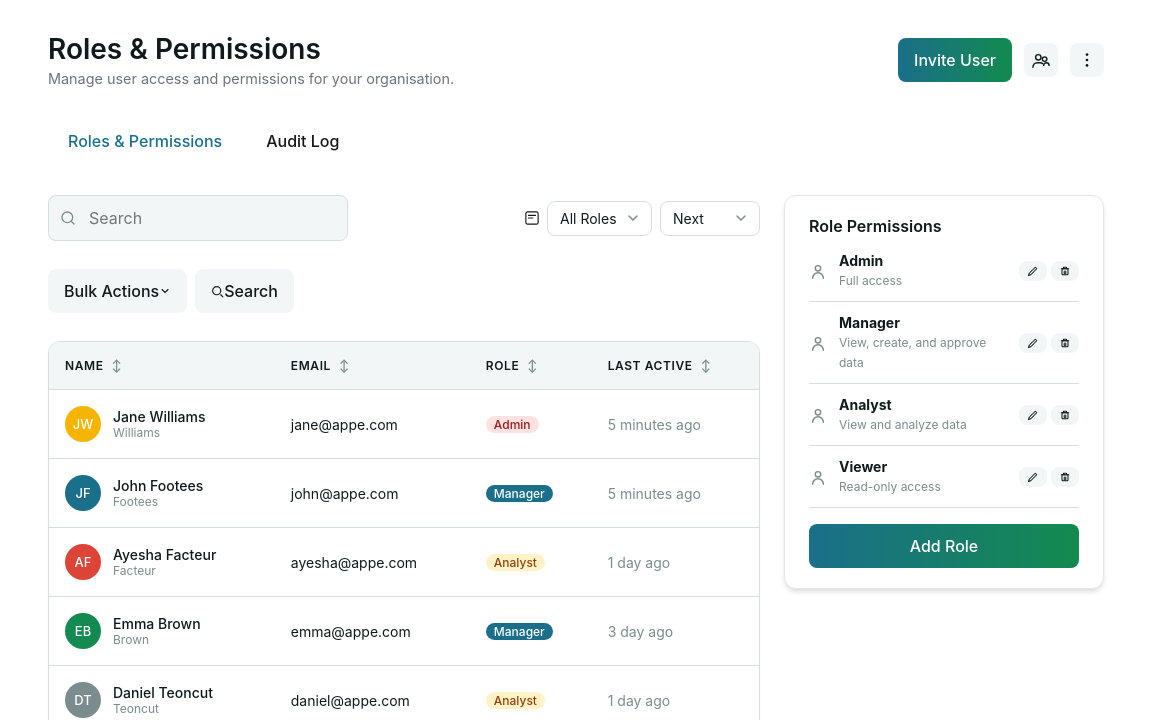
Test: RolesPage › adds a user when invite form is submitted
Click the button with test id "invite-user-btn": click(955, 60) [898,38,1012,82]
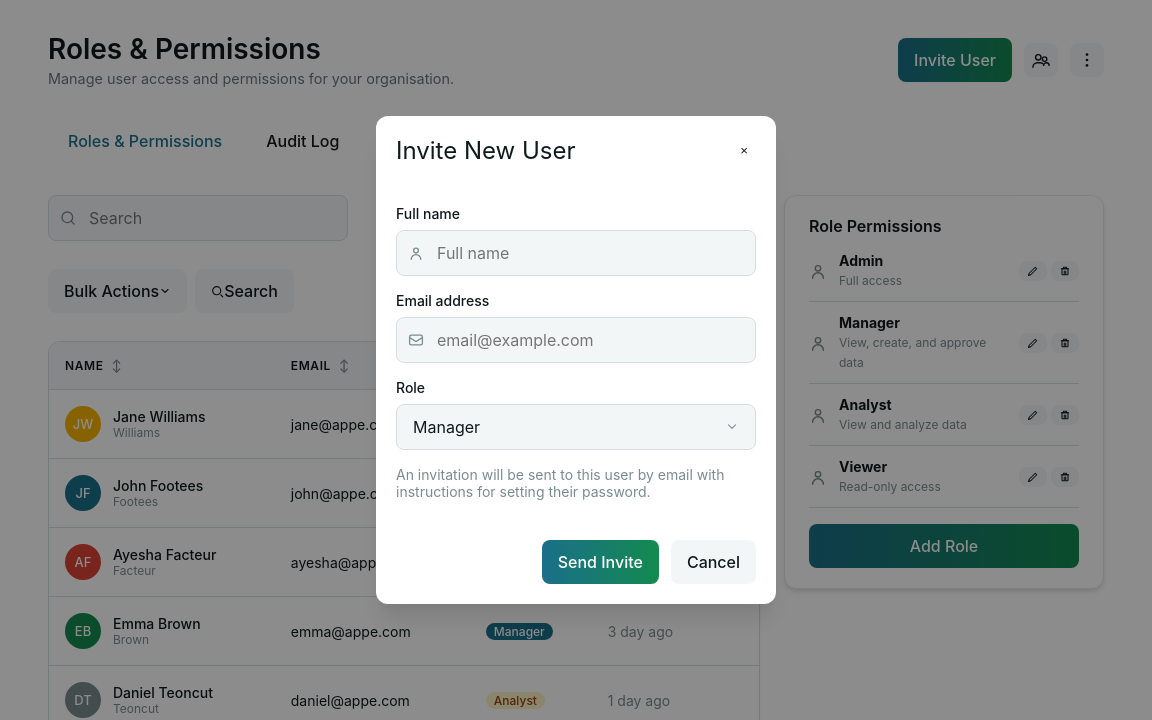
In the field labelled "Full name": (576, 253) [396,230,756,276], type "New User"
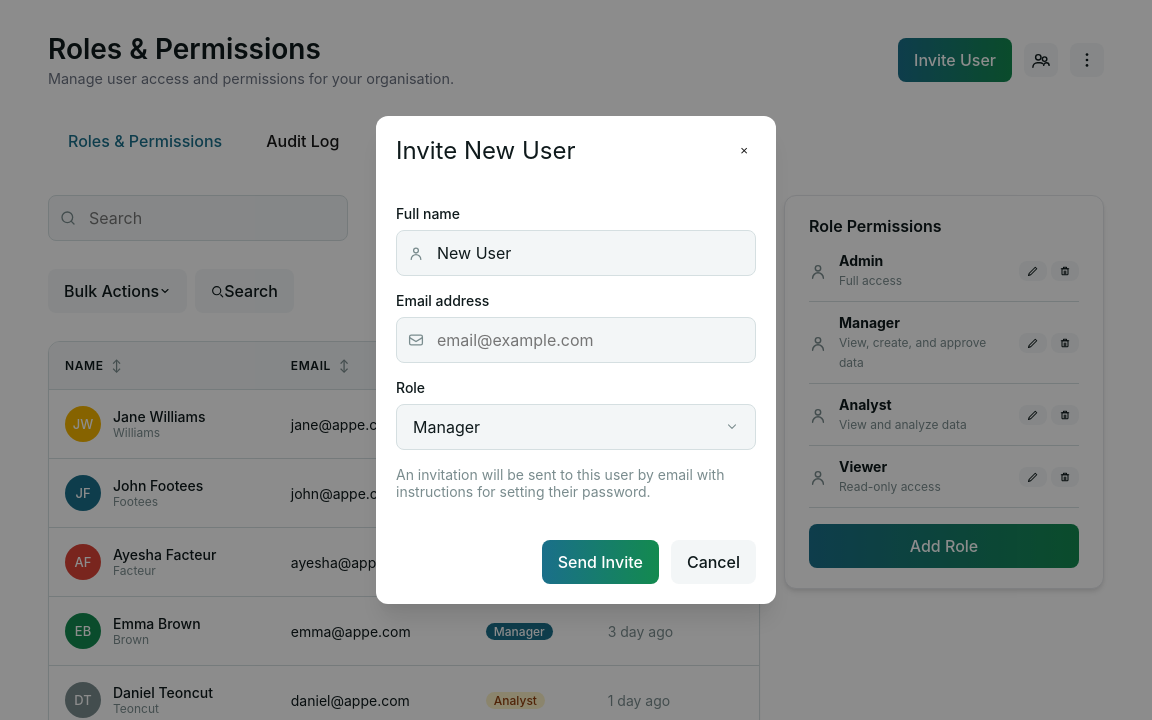
In the field labelled "Email address": (576, 340) [396,317,756,363], type "newuser@example.com"
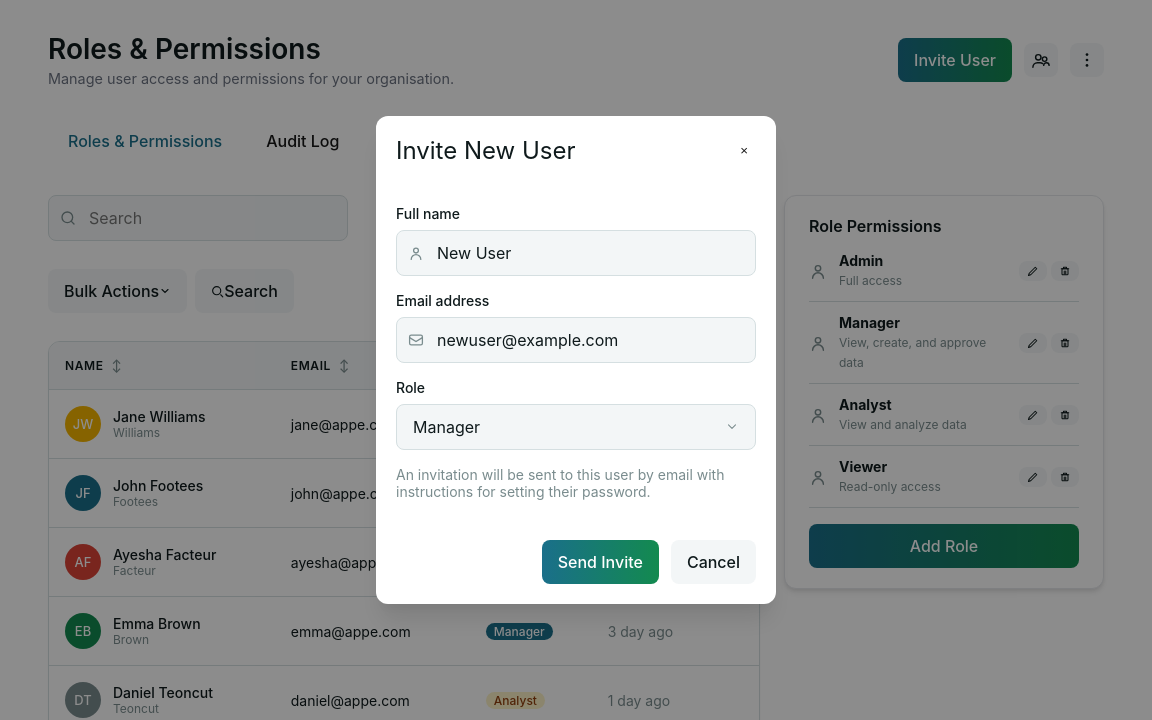
Click the button "Send Invite": click(600, 562) [542,540,659,584]
(page scrolled)
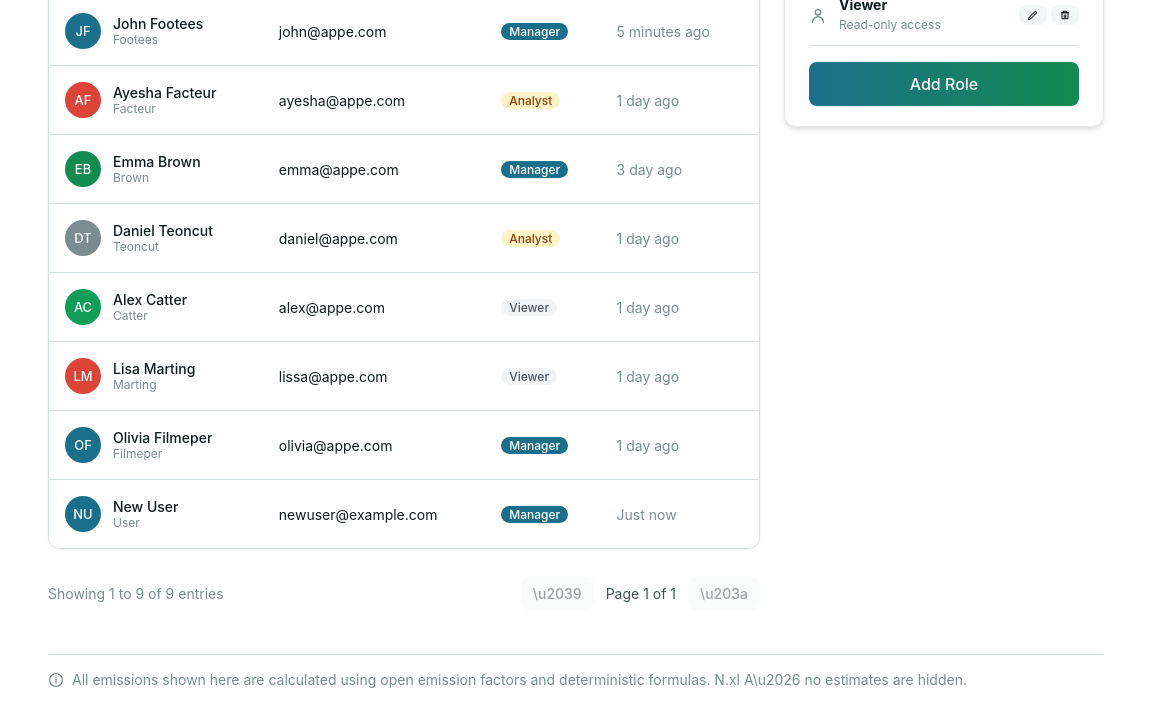
Expected: the dialog with test id "invite-modal" is gone
Expected: the text "newuser@example.com" is shown, [263,480,485,548]
